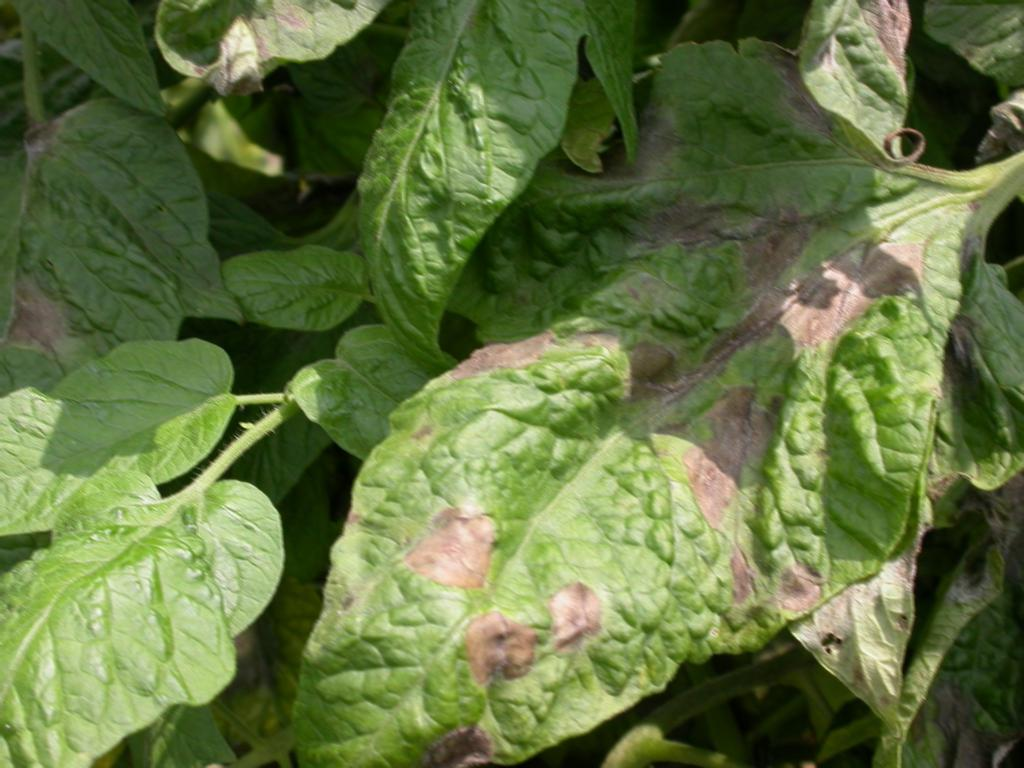Tomato leaf late blight: (298, 151, 1004, 753), (0, 81, 224, 399)
